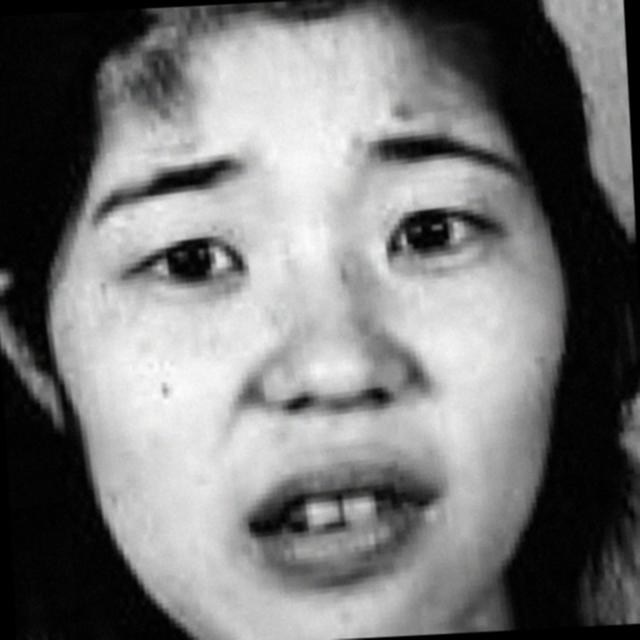fear: (76, 50, 587, 639)
